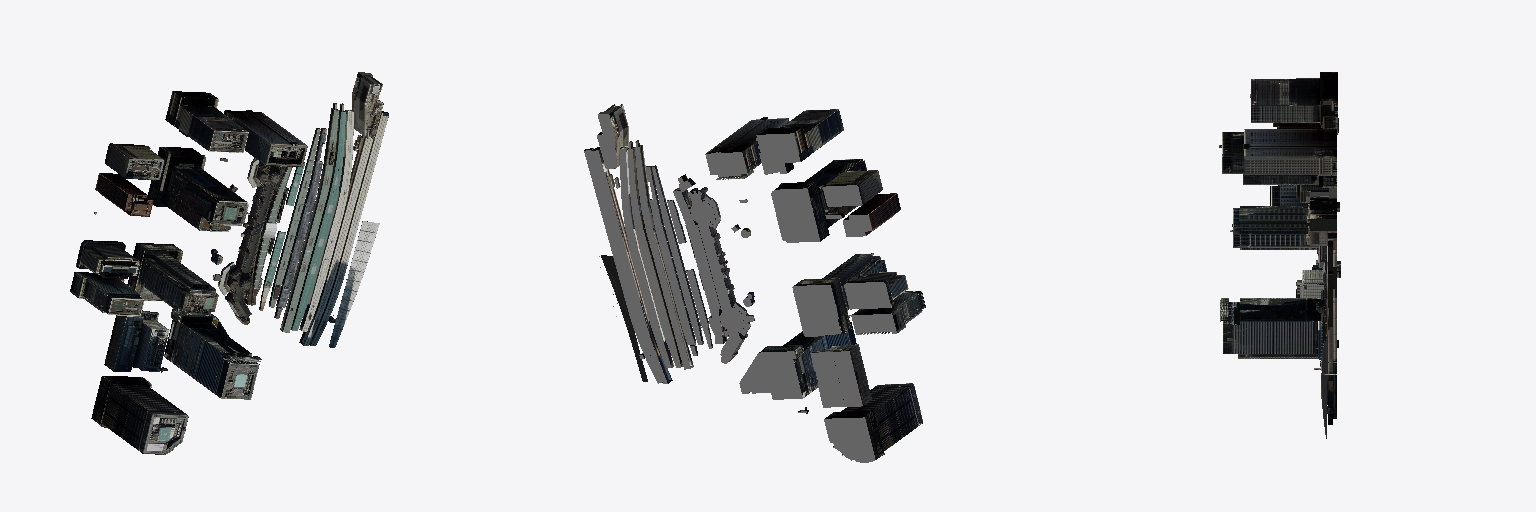
3 renders of one model, left to right at view 1: azimuth 30°, elevation 25°; view 2: azimuth 150°, elevation 25°; view 3: azimuth 270°, elevation 25°, orthographic.
Size of the model in its own units: 625 by 597 by 210.
46 materials, 46 textured.